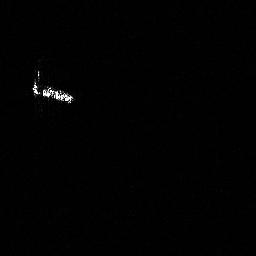ship: (28, 66, 77, 107)
